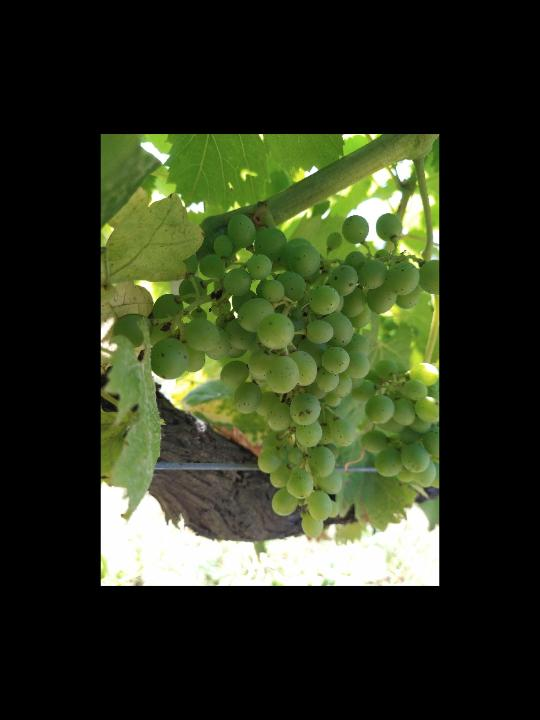grape: (111, 211, 438, 541)
